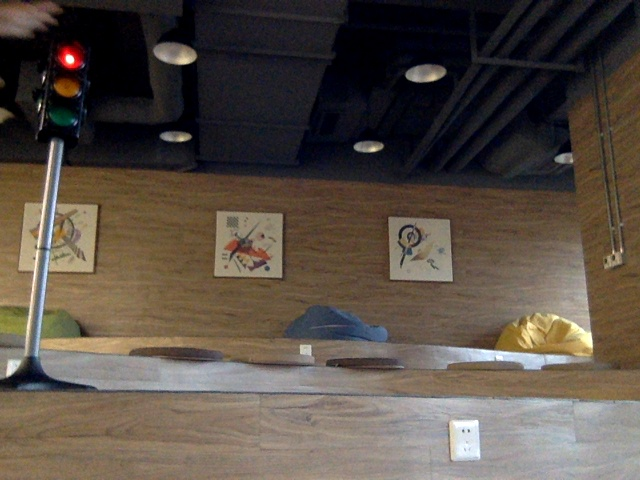red: (47, 44, 90, 131)
